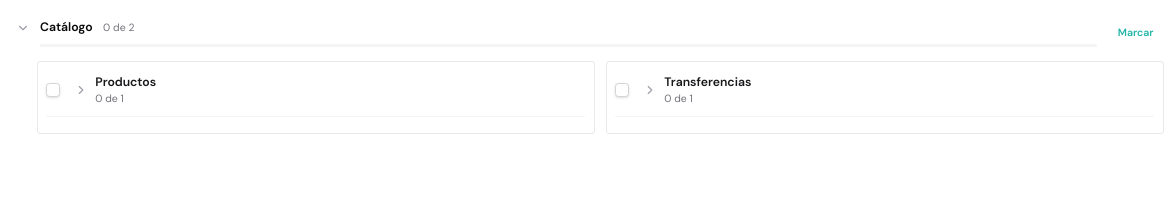
RolePermissionsMatrix › collapses and expands catalog page subgroups independently
Expected: the text "Crear productos" is not shown
Click the button "Productos 0 de 1".
click(126, 82)  # box [71,71,585,109]
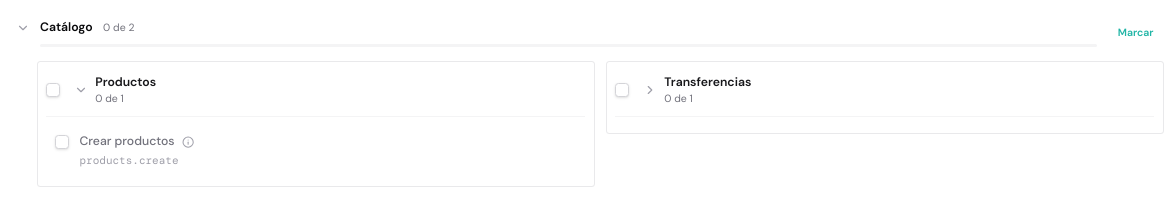
Expected: the text "Crear productos" is shown, [80,133,175,150]
Click the button "Productos 0 de 1".
click(126, 82)  # box [71,71,585,109]
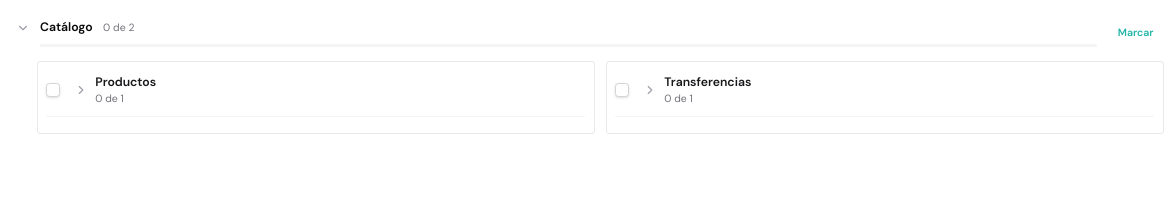
Expected: the text "Crear productos" is gone
